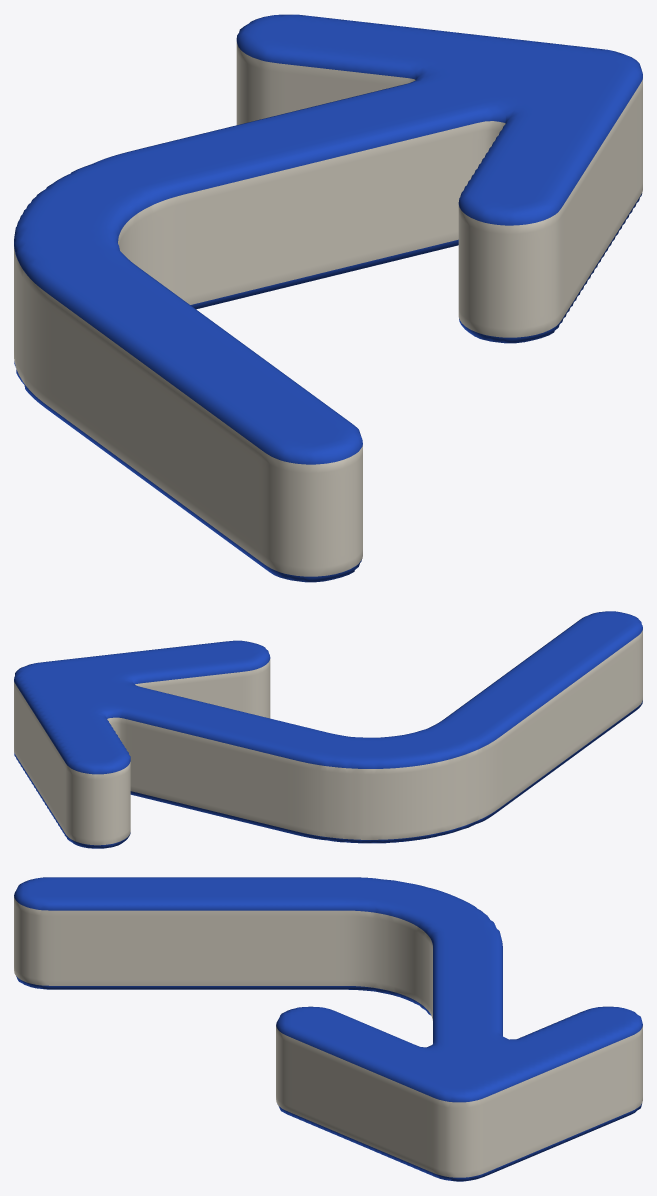
The model's file is turn.fbx.
The picture shows the model from 3 angles, top to bottom: view 1: azimuth 30°, elevation 25°; view 2: azimuth 150°, elevation 25°; view 3: azimuth 270°, elevation 25°; orthographic projection. The views are drawn at different scales.
Visible parts, largest first — view 1: Curve.001; view 2: Curve.001; view 3: Curve.001.
Boxes of the visible parts, left/top/right/bottom form: Curve.001: left=14, top=14, right=642, bottom=582; Curve.001: left=14, top=611, right=642, bottom=848; Curve.001: left=14, top=877, right=642, bottom=1181.
Bounding box in the file's own units: 820 × 153 × 984.
